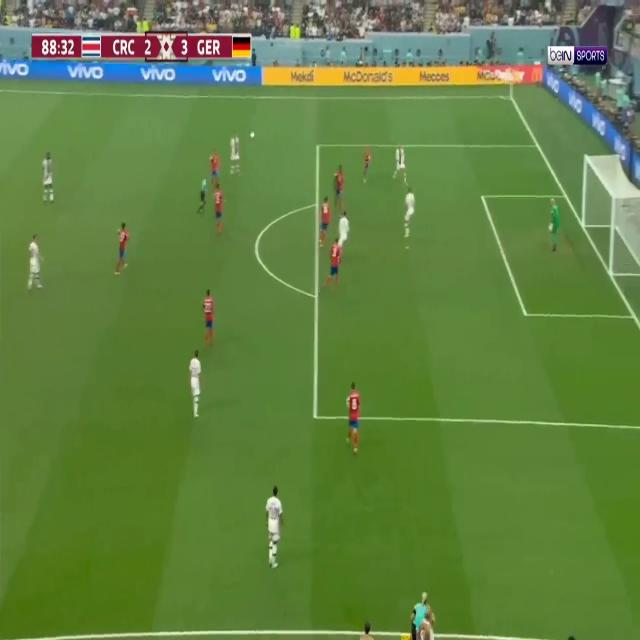Ball: (250, 131, 255, 141)
GoalKeeper: (548, 196, 561, 253)
Referee: (410, 588, 427, 640), (198, 174, 209, 218)
TEAM 1: (345, 381, 362, 456), (114, 215, 131, 279), (201, 287, 216, 347), (325, 238, 342, 290), (212, 180, 225, 238), (317, 195, 331, 248), (332, 162, 347, 211), (208, 148, 222, 192), (362, 146, 373, 186)
TEAM 2: (264, 484, 285, 570), (188, 348, 205, 425), (26, 230, 46, 294), (40, 149, 55, 208), (393, 140, 408, 187), (403, 187, 416, 240), (228, 131, 242, 178), (337, 210, 351, 253)
